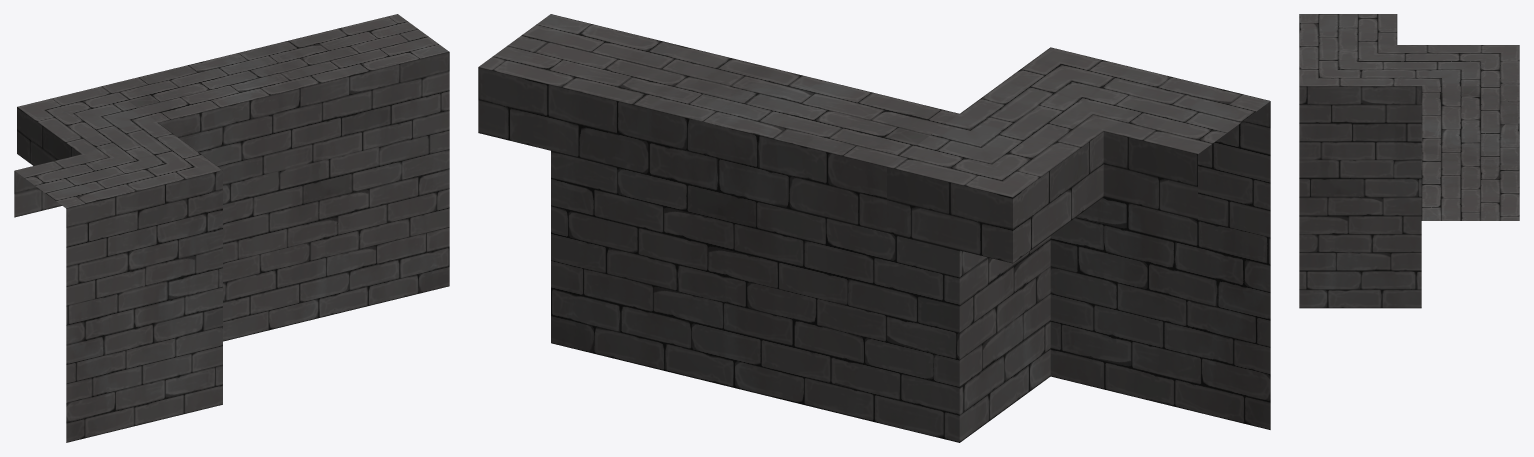
Rendered from Cornice_WornBrick_90Angle_L.gltf.
The picture shows the model from 3 angles, left to right: view 1: azimuth 30°, elevation 25°; view 2: azimuth 150°, elevation 25°; view 3: azimuth 270°, elevation 25°; orthographic projection. The views are drawn at different scales.
Parts seen in each view (by area): view 1: Cornice_WornBrick_90Angle_L; view 2: Cornice_WornBrick_90Angle_L; view 3: Cornice_WornBrick_90Angle_L.
Boxes of the visible parts, x1=… form: Cornice_WornBrick_90Angle_L: x1=14, y1=14, x2=449, y2=442; Cornice_WornBrick_90Angle_L: x1=478, y1=14, x2=1270, y2=442; Cornice_WornBrick_90Angle_L: x1=1299, y1=14, x2=1519, y2=308.
Bounding box in the file's own units: 2 × 1 × 0.9.
1 material, 1 textured.
